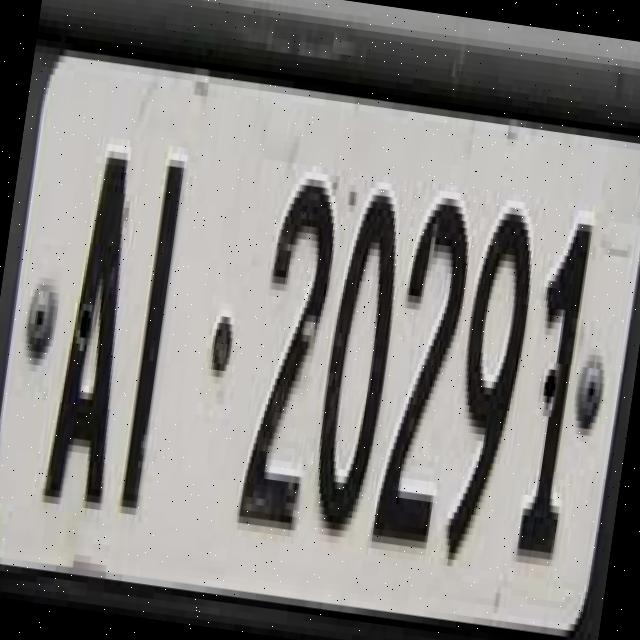Autre: (0, 42, 640, 637)
